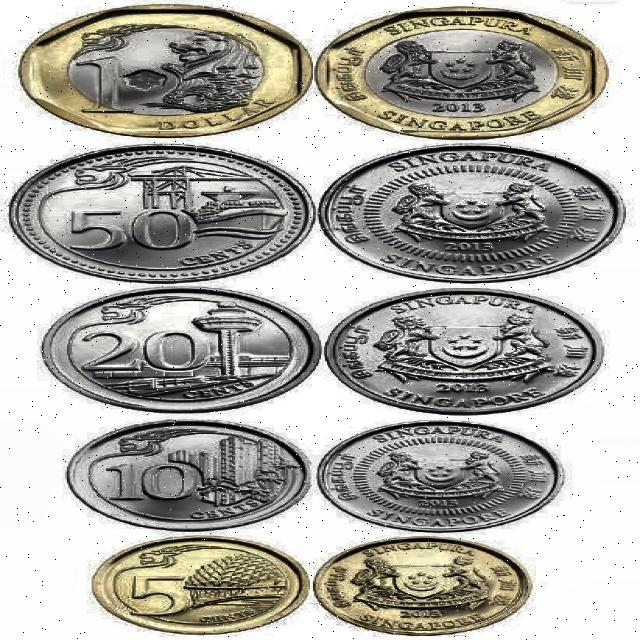coin: (20, 6, 310, 137), (318, 9, 604, 138)
